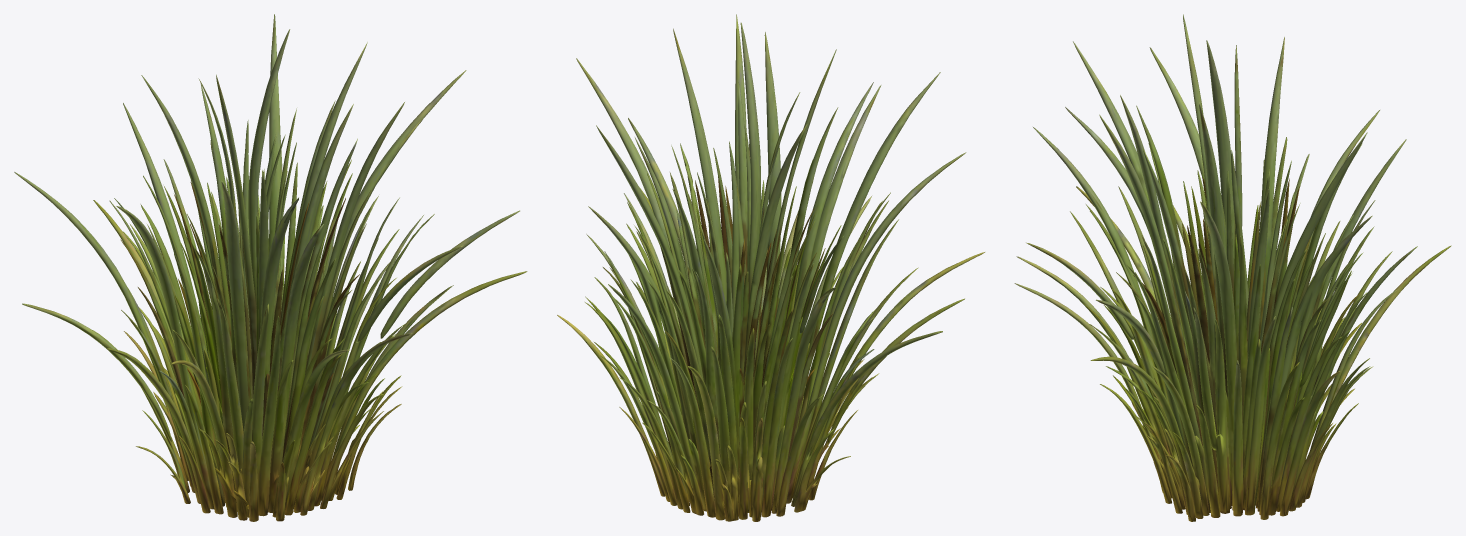
Rendered from swampgrass3.glb.
3 views of the same model, side by side, from view 1: azimuth 30°, elevation 25°; view 2: azimuth 150°, elevation 25°; view 3: azimuth 270°, elevation 25° (orthographic). The views are drawn at different scales.
Parts seen in each view (by area): view 1: node_0; view 2: node_0; view 3: node_0.
Part boxes in pixels (left/top/right/bottom): node_0: left=14, top=14, right=527, bottom=521; node_0: left=557, top=14, right=984, bottom=521; node_0: left=1014, top=14, right=1451, bottom=521.
Bounding box in the file's own units: 0.9863 × 1.06 × 0.9228.
Materials: 1 (1 with a texture image).
